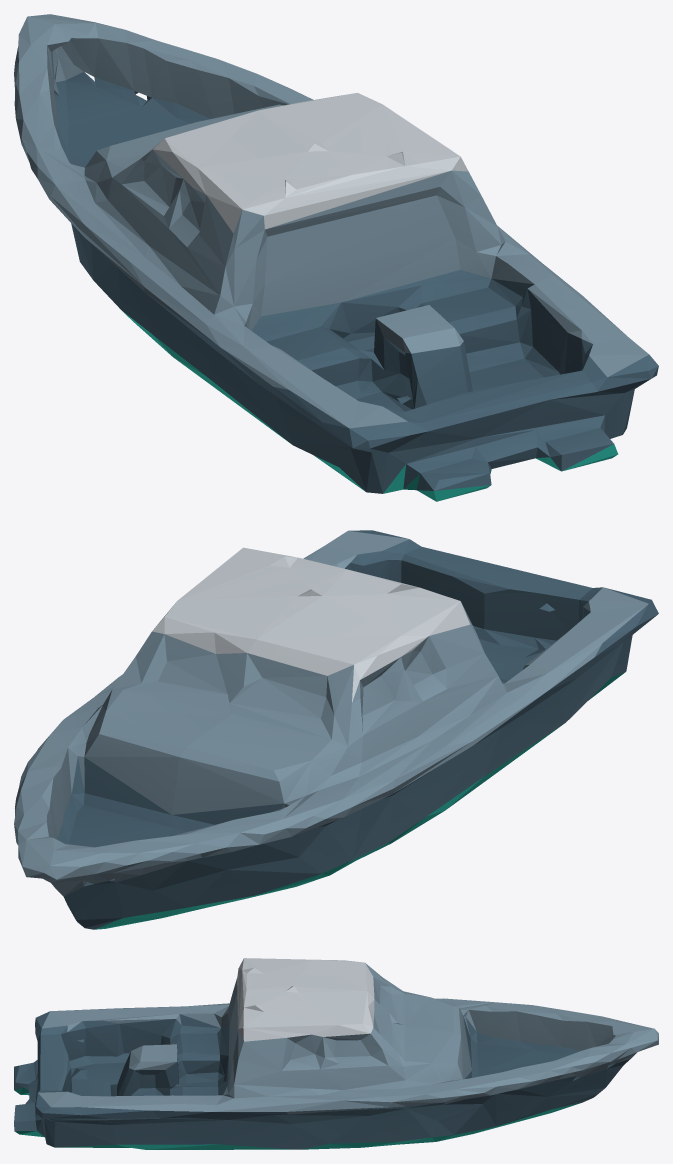
File: service.glb
3 renders of one model, top to bottom at view 1: azimuth 30°, elevation 25°; view 2: azimuth 150°, elevation 25°; view 3: azimuth 270°, elevation 25°, orthographic. The views are drawn at different scales.
Parts seen in each view (by area): view 1: lod0; view 2: lod0; view 3: lod0.
Part boxes in pixels (x1,y1,x2,y2): lod0: (14,14,658,501); lod0: (14,530,658,929); lod0: (14,958,658,1149).
Size of what is drawn, in the model's own units: 0.3853 by 0.205 by 0.9947.
